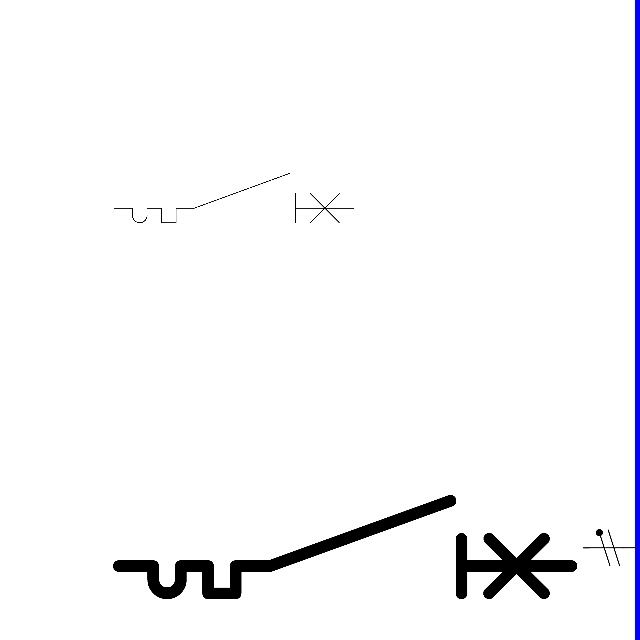interruptor_termomagnetico: (107, 489, 583, 605), (108, 167, 360, 229)
